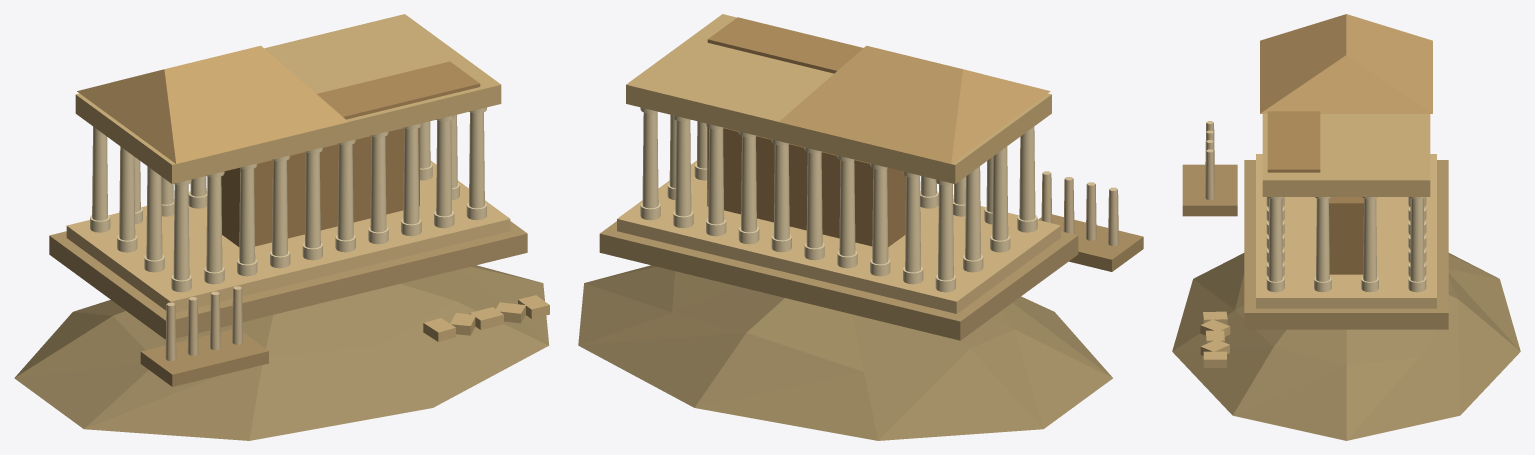
Rendered from acropolis.glb.
The picture shows the model from 3 angles, left to right: view 1: azimuth 30°, elevation 25°; view 2: azimuth 150°, elevation 25°; view 3: azimuth 270°, elevation 25°; orthographic projection. The views are drawn at different scales.
Parts seen in each view (by area): view 1: base_9C9A7F, body_DED1AF, body_CDBD99, roof_CAB996, base_D8C9AA, base_C2B493, body_B5A486, roof_C4B08C, base_BEAD8F, ruins_CDBF9C, body_D6C8A6; view 2: base_9C9A7F, body_DED1AF, body_CDBD99, roof_CAB996, base_D8C9AA, base_C2B493, body_B5A486, roof_C4B08C, body_D6C8A6, base_BEAD8F; view 3: base_9C9A7F, roof_CAB996, base_D8C9AA, body_CDBD99, base_C2B493, body_DED1AF, roof_C4B08C, body_B5A486, base_BEAD8F, ruins_CDBF9C, body_D6C8A6.
Part boxes in pixels (left/top/right/bottom): base_9C9A7F: left=14, top=265, right=549, bottom=440; body_DED1AF: left=90, top=107, right=486, bottom=292; body_CDBD99: left=75, top=14, right=501, bottom=183; roof_CAB996: left=77, top=45, right=347, bottom=163; base_D8C9AA: left=66, top=161, right=510, bottom=312; base_C2B493: left=49, top=221, right=527, bottom=339; body_B5A486: left=221, top=127, right=419, bottom=246; roof_C4B08C: left=317, top=61, right=480, bottom=119; base_BEAD8F: left=140, top=329, right=268, bottom=386; ruins_CDBF9C: left=423, top=295, right=549, bottom=341; body_D6C8A6: left=165, top=286, right=242, bottom=360; base_9C9A7F: left=578, top=265, right=1112, bottom=440; body_DED1AF: left=640, top=107, right=1037, bottom=292; body_CDBD99: left=626, top=14, right=1051, bottom=183; roof_CAB996: left=779, top=45, right=1050, bottom=163; base_D8C9AA: left=617, top=160, right=1060, bottom=313; base_C2B493: left=599, top=221, right=1078, bottom=340; body_B5A486: left=707, top=127, right=905, bottom=247; roof_C4B08C: left=707, top=17, right=863, bottom=73; body_D6C8A6: left=1041, top=171, right=1118, bottom=245; base_BEAD8F: left=1038, top=214, right=1143, bottom=271; base_9C9A7F: left=1172, top=253, right=1520, bottom=440; roof_CAB996: left=1260, top=14, right=1432, bottom=113; base_D8C9AA: left=1256, top=154, right=1436, bottom=308; body_CDBD99: left=1262, top=114, right=1430, bottom=196; base_C2B493: left=1244, top=160, right=1448, bottom=329; body_DED1AF: left=1266, top=197, right=1426, bottom=292; roof_C4B08C: left=1267, top=111, right=1320, bottom=172; body_B5A486: left=1329, top=197, right=1363, bottom=274; base_BEAD8F: left=1182, top=164, right=1237, bottom=216; ruins_CDBF9C: left=1200, top=311, right=1230, bottom=367; body_D6C8A6: left=1205, top=121, right=1214, bottom=199.
Size of the model in its own units: 1 by 0.5922 by 0.703.
